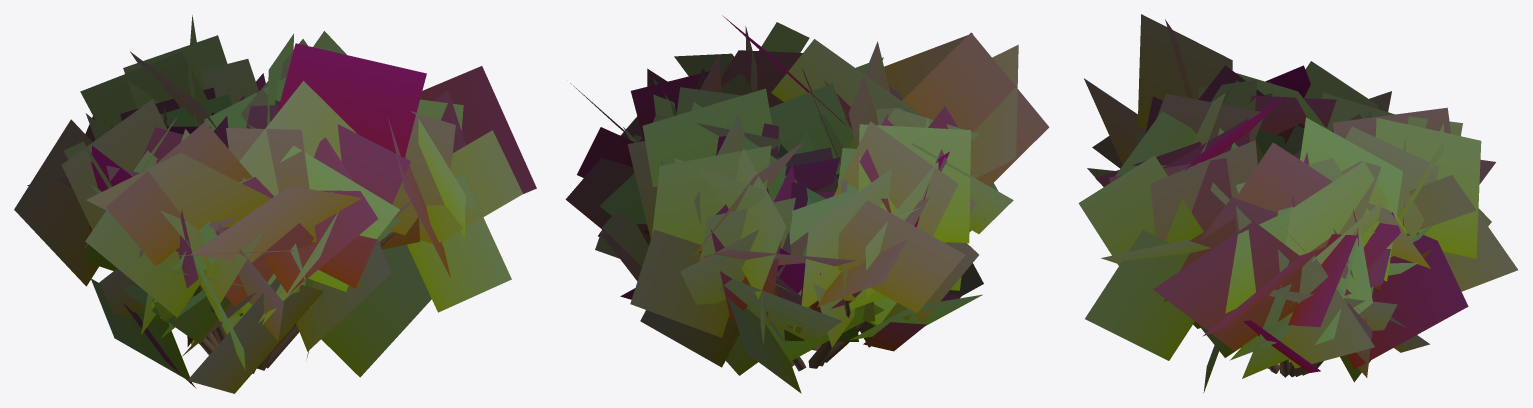
Rendered from bush_1.glb.
The picture shows the model from 3 angles, left to right: view 1: azimuth 30°, elevation 25°; view 2: azimuth 150°, elevation 25°; view 3: azimuth 270°, elevation 25°; orthographic projection. The views are drawn at different scales.
Parts seen in each view (by area): view 1: Leaves, Trunk; view 2: Leaves, Trunk; view 3: Leaves, Trunk.
Part boxes in pixels (x1,y1,x2,y2): Leaves: [14, 15, 536, 393]; Trunk: [200, 231, 395, 373]; Leaves: [565, 15, 1049, 393]; Trunk: [790, 297, 867, 371]; Leaves: [1078, 14, 1517, 392]; Trunk: [1267, 359, 1323, 377].
Size of the model in its own units: 1.87 by 1.29 by 1.71.
